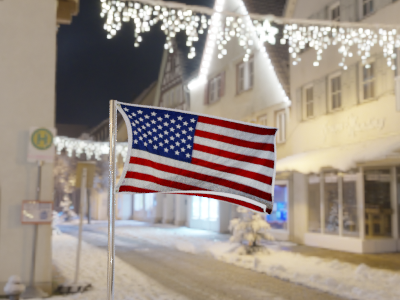America flag: (116, 102, 280, 215)
